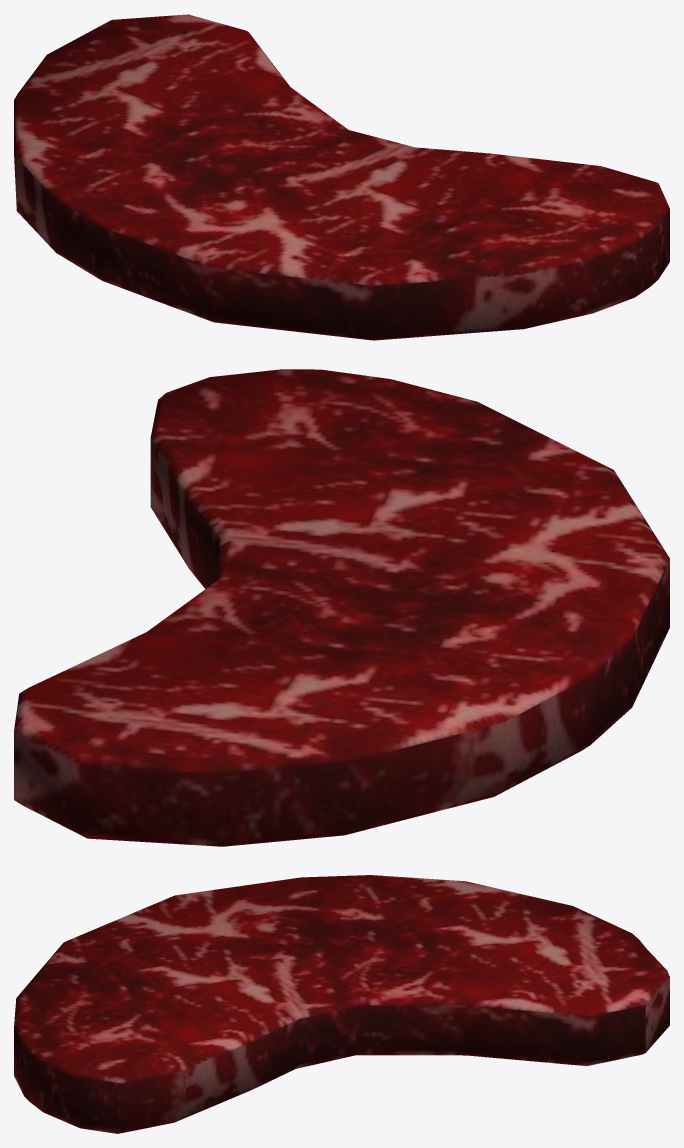
File: M_Daging.fbx
3 renders of one model, top to bottom at view 1: azimuth 30°, elevation 25°; view 2: azimuth 150°, elevation 25°; view 3: azimuth 270°, elevation 25°, orthographic. The views are drawn at different scales.
Parts seen in each view (by area): view 1: Cube.002; view 2: Cube.002; view 3: Cube.002.
Part boxes in pixels (x1,y1,x2,y2): Cube.002: (14, 14, 669, 340); Cube.002: (14, 369, 669, 846); Cube.002: (14, 875, 669, 1133).
Size of the model in its own units: 13.1 by 1.66 by 17.56.
